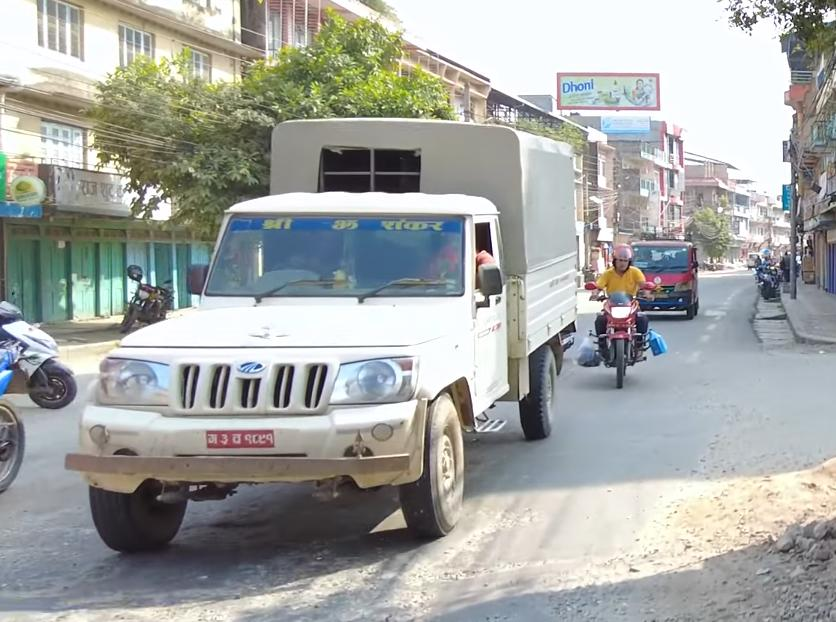bike: (595, 237, 663, 403), (109, 259, 174, 333), (737, 240, 788, 304)
scooter: (0, 290, 81, 417)
transport_vehicle: (54, 98, 585, 563)
